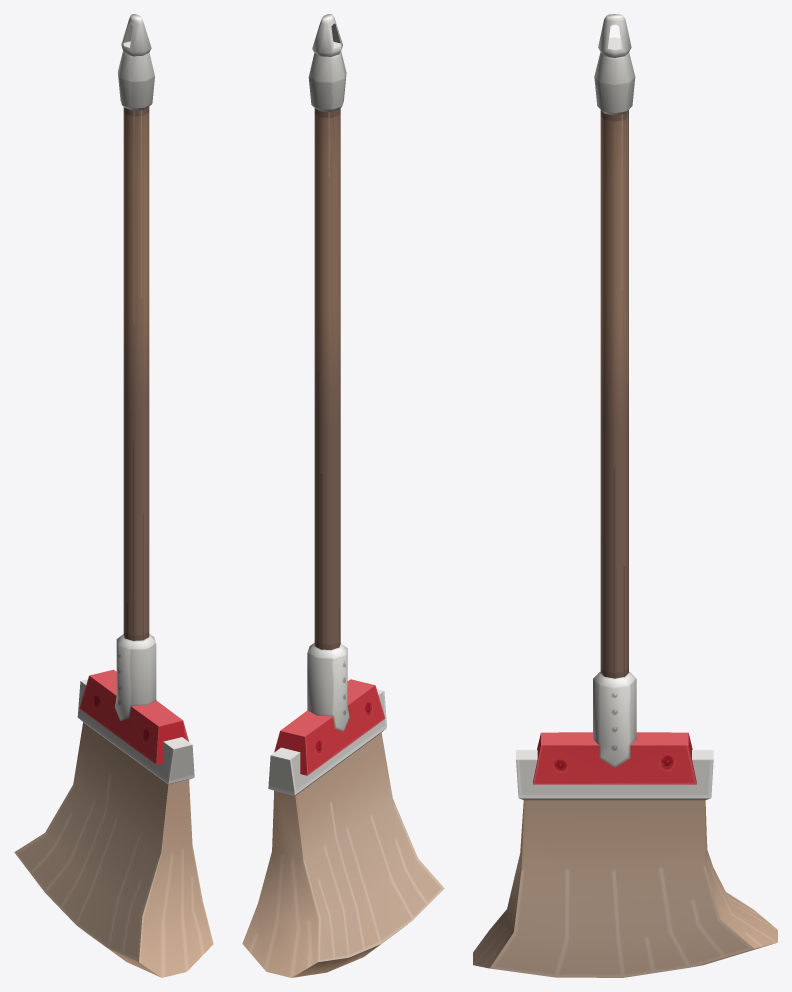
Rendered from cleaners_broom_1.fbx.
3 renders of one model, left to right at view 1: azimuth 30°, elevation 25°; view 2: azimuth 150°, elevation 25°; view 3: azimuth 270°, elevation 25°, orthographic. The views are drawn at different scales.
Parts seen in each view (by area): view 1: cleaners_broom_1; view 2: cleaners_broom_1; view 3: cleaners_broom_1.
Boxes of the visible parts, bbox=[...] form: cleaners_broom_1: bbox=[14, 14, 213, 977]; cleaners_broom_1: bbox=[242, 14, 444, 977]; cleaners_broom_1: bbox=[473, 14, 777, 977].
Bounding box in the file's own units: 6.92 × 80.18 × 22.86.
